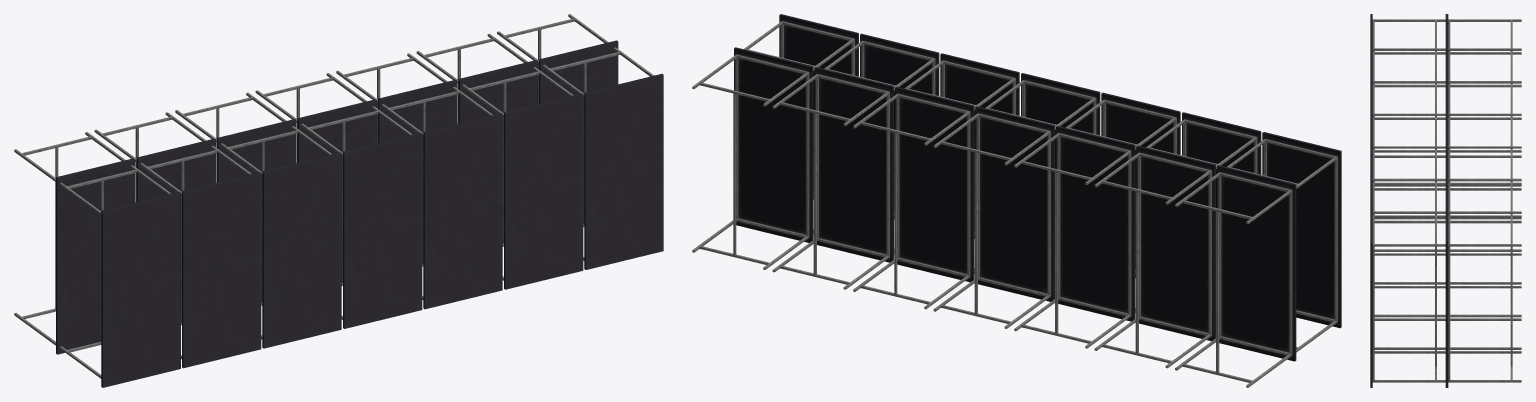
The model's file is tables extra.fbx.
3 views of the same model, side by side, from view 1: azimuth 30°, elevation 25°; view 2: azimuth 150°, elevation 25°; view 3: azimuth 270°, elevation 25° (orthographic). The views are drawn at different scales.
Visible parts, largest first — view 1: tabletop_tabletop_0.001, tabletop_tabletop_0.011, tabletop_tabletop_0.007, tabletop_tabletop_0.013, tabletop_tabletop_0.003, tabletop_tabletop_0.005, tabletop_tabletop_0.009, tabletop, tabletop_tabletop_0.012, tabletop_tabletop_0.004, tabletop_tabletop_0.008, tabletop_tabletop_0.006 (+2 smaller); view 2: tabletop, tabletop_tabletop_0.002, tabletop_tabletop_0.010, tabletop_tabletop_0.006, tabletop_tabletop_0.008, tabletop_tabletop_0.004, tabletop_tabletop_0.012, tabletop_tabletop_0.001, tabletop_tabletop_0.013, tabletop_tabletop_0.009, tabletop_tabletop_0.005, tabletop_tabletop_0.011 (+2 smaller); view 3: tabletop_tabletop_0.012, tabletop_tabletop_0.013, tabletop_tabletop_0.004, tabletop_tabletop_0.008, tabletop_tabletop_0.005, tabletop_tabletop_0.010, tabletop_tabletop_0.009, tabletop_tabletop_0.011, tabletop_tabletop_0.006, tabletop_tabletop_0.007, tabletop, tabletop_tabletop_0.002 (+2 smaller).
Boxes of the visible parts, bbox=[...] form: tabletop_tabletop_0.001: bbox=[60, 165, 180, 387]; tabletop_tabletop_0.011: bbox=[462, 67, 583, 289]; tabletop_tabletop_0.007: bbox=[301, 106, 422, 328]; tabletop_tabletop_0.013: bbox=[542, 47, 663, 269]; tabletop_tabletop_0.003: bbox=[140, 145, 261, 368]; tabletop_tabletop_0.005: bbox=[221, 126, 341, 348]; tabletop_tabletop_0.009: bbox=[381, 86, 502, 309]; tabletop: bbox=[14, 132, 135, 354]; tabletop_tabletop_0.012: bbox=[497, 14, 618, 223]; tabletop_tabletop_0.004: bbox=[175, 92, 296, 301]; tabletop_tabletop_0.008: bbox=[336, 53, 457, 262]; tabletop_tabletop_0.006: bbox=[255, 73, 376, 282]; tabletop: bbox=[1175, 165, 1296, 387]; tabletop_tabletop_0.002: bbox=[1094, 145, 1215, 368]; tabletop_tabletop_0.010: bbox=[772, 67, 893, 289]; tabletop_tabletop_0.006: bbox=[933, 106, 1054, 328]; tabletop_tabletop_0.008: bbox=[853, 86, 974, 309]; tabletop_tabletop_0.004: bbox=[1014, 126, 1135, 348]; tabletop_tabletop_0.012: bbox=[692, 47, 813, 269]; tabletop_tabletop_0.001: bbox=[1227, 132, 1341, 352]; tabletop_tabletop_0.013: bbox=[744, 14, 858, 234]; tabletop_tabletop_0.009: bbox=[904, 53, 1019, 273]; tabletop_tabletop_0.005: bbox=[1065, 92, 1180, 312]; tabletop_tabletop_0.011: bbox=[824, 33, 939, 253]; tabletop_tabletop_0.012: bbox=[1445, 209, 1521, 387]; tabletop_tabletop_0.013: bbox=[1370, 209, 1445, 387]; tabletop_tabletop_0.004: bbox=[1445, 79, 1521, 251]; tabletop_tabletop_0.008: bbox=[1445, 144, 1521, 317]; tabletop_tabletop_0.005: bbox=[1370, 79, 1445, 251]; tabletop_tabletop_0.010: bbox=[1445, 177, 1521, 349]; tabletop_tabletop_0.009: bbox=[1370, 144, 1445, 317]; tabletop_tabletop_0.011: bbox=[1370, 177, 1445, 349]; tabletop_tabletop_0.006: bbox=[1445, 112, 1521, 284]; tabletop_tabletop_0.007: bbox=[1370, 112, 1445, 284]; tabletop: bbox=[1445, 14, 1521, 186]; tabletop_tabletop_0.002: bbox=[1445, 46, 1521, 219].
Size of the model in its own units: 5.55 by 1.67 by 1.56.
Materials: 2 (2 with a texture image).
